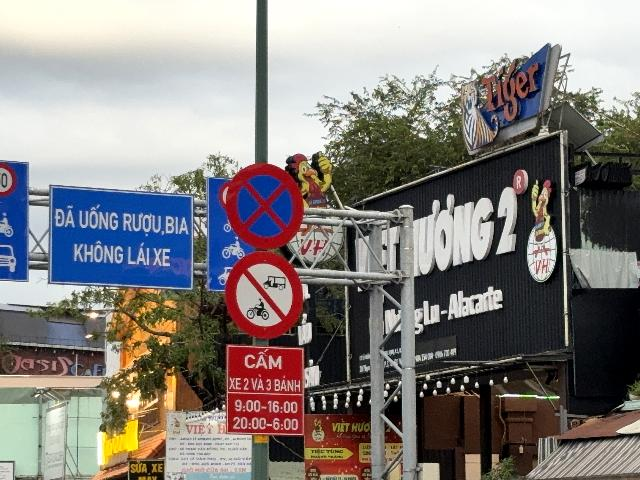cam-dung-va-do-xe: (227, 161, 305, 251)
cam-xe-2-banh-3-banh: (224, 251, 303, 339)
